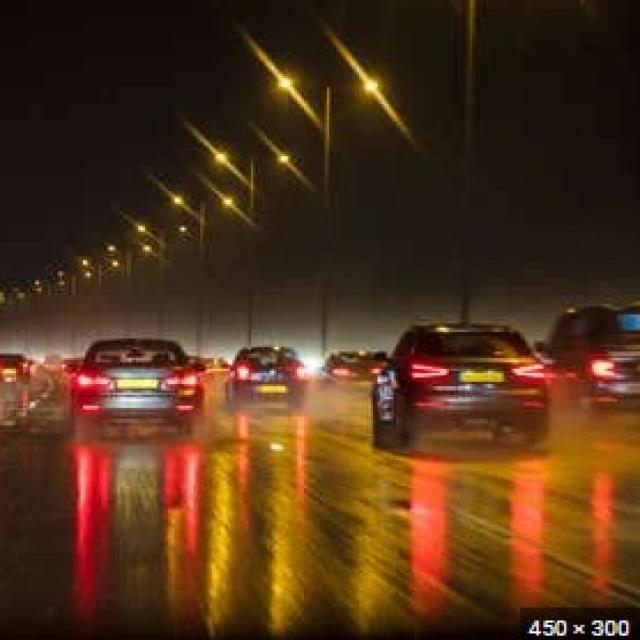car: (368, 322, 550, 456), (68, 336, 206, 436), (547, 299, 640, 422), (226, 342, 308, 410), (316, 348, 383, 392)
